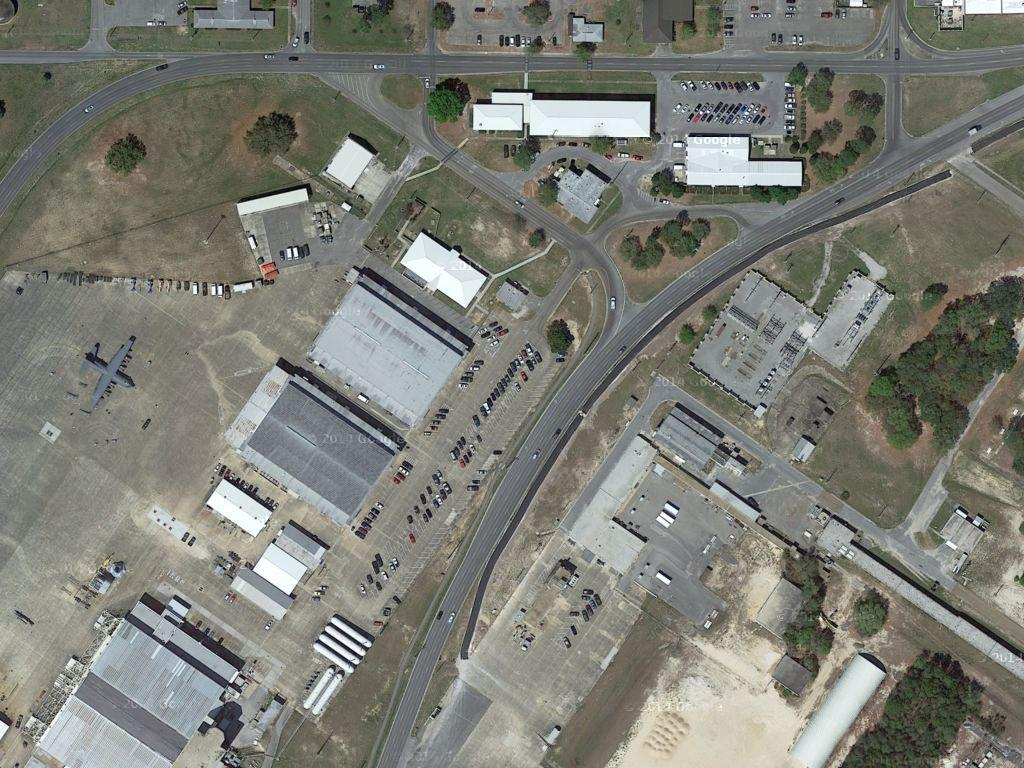C-130: (71, 334, 141, 406)
